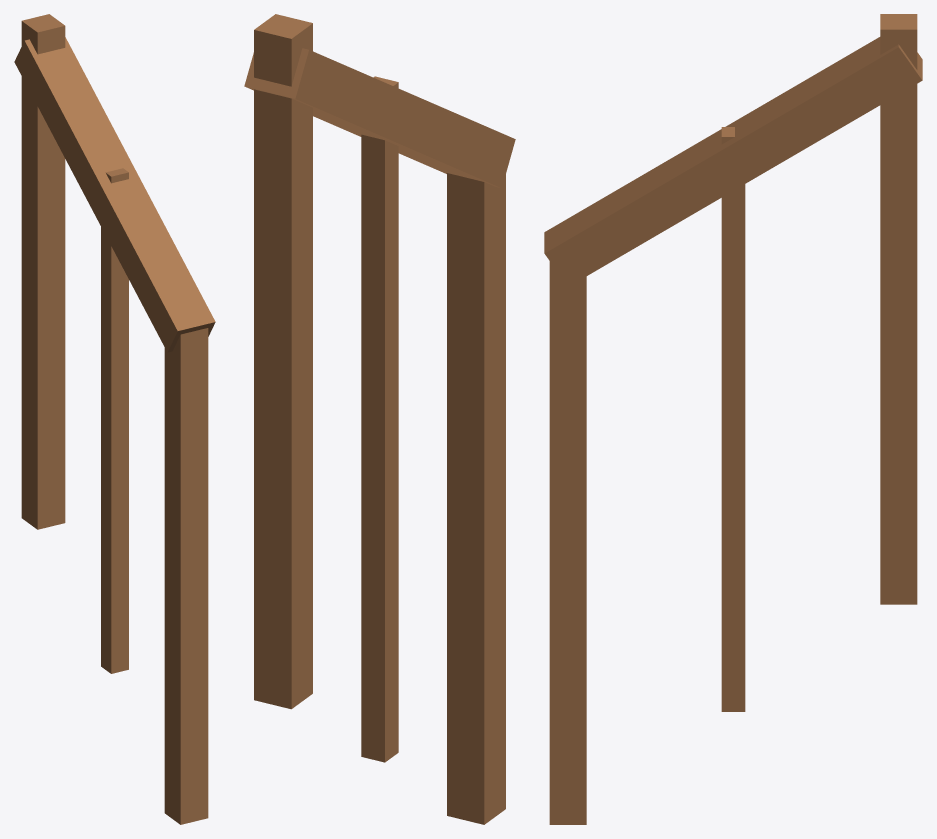
The model's file is res_rail_slope_end.glb.
3 renders of one model, left to right at view 1: azimuth 30°, elevation 25°; view 2: azimuth 150°, elevation 25°; view 3: azimuth 270°, elevation 25°, orthographic. The views are drawn at different scales.
Visible parts, largest first — view 1: res_rail_slope_end; view 2: res_rail_slope_end; view 3: res_rail_slope_end.
Boxes of the visible parts, x1,y1,x2,y2 form: res_rail_slope_end: [14, 14, 215, 824]; res_rail_slope_end: [244, 14, 515, 824]; res_rail_slope_end: [544, 14, 922, 824].
Bounding box in the file's own units: 0.075 × 1.3 × 0.56.
